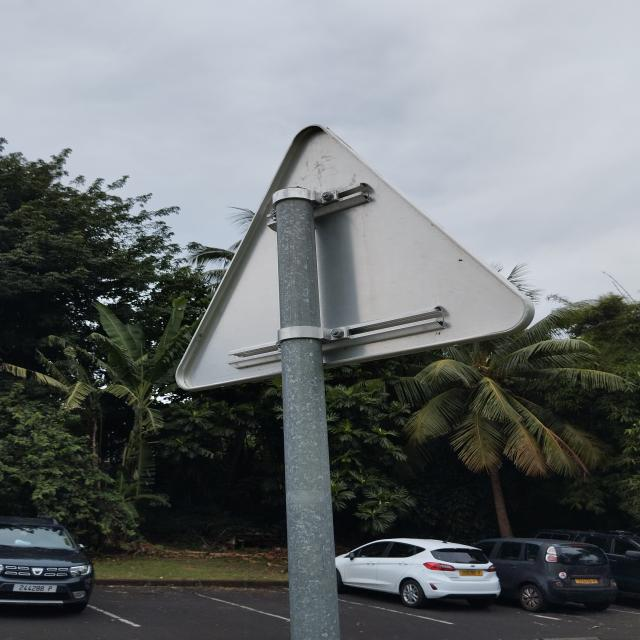Panneau: (175, 126, 534, 387)
